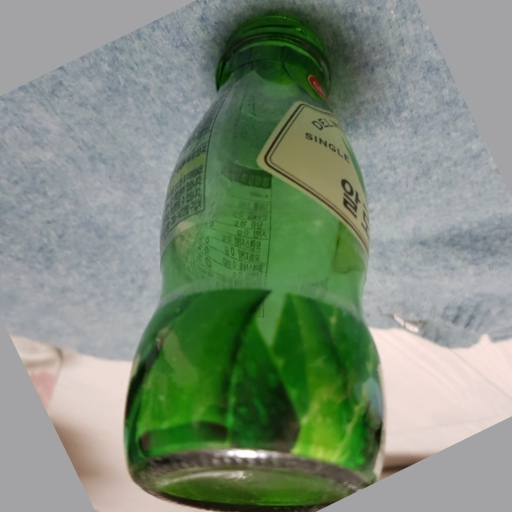Glass_4: (131, 16, 383, 512)
